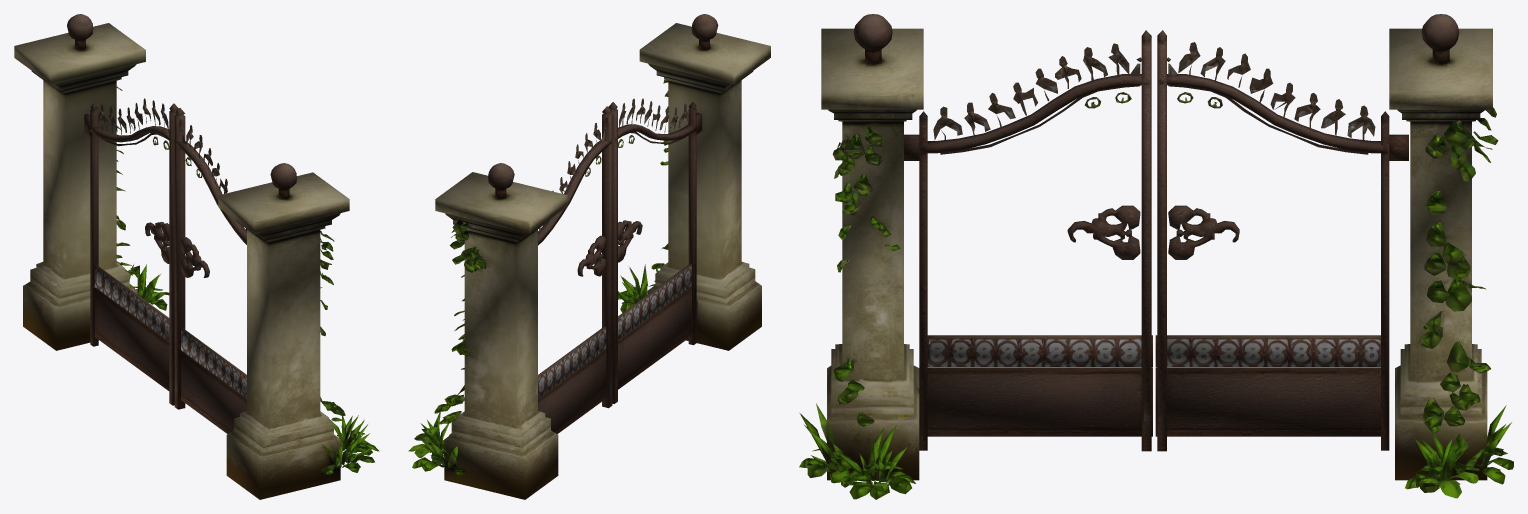
Rendered from Arch_Gate_Colonial.glb.
3 views of the same model, side by side, from view 1: azimuth 30°, elevation 25°; view 2: azimuth 150°, elevation 25°; view 3: azimuth 270°, elevation 25° (orthographic). The views are drawn at different scales.
Visible parts, largest first — view 1: tripo_node_a1deb33b-48d1-4727-ba70-545715e57119; view 2: tripo_node_a1deb33b-48d1-4727-ba70-545715e57119; view 3: tripo_node_a1deb33b-48d1-4727-ba70-545715e57119.
Boxes of the visible parts, left/top/right/bottom form: tripo_node_a1deb33b-48d1-4727-ba70-545715e57119: left=14, top=14, right=379, bottom=499; tripo_node_a1deb33b-48d1-4727-ba70-545715e57119: left=408, top=14, right=770, bottom=499; tripo_node_a1deb33b-48d1-4727-ba70-545715e57119: left=799, top=14, right=1513, bottom=499.
Size of the model in its own units: 1.15 by 2.5 by 3.7.
1 material, 1 textured.
